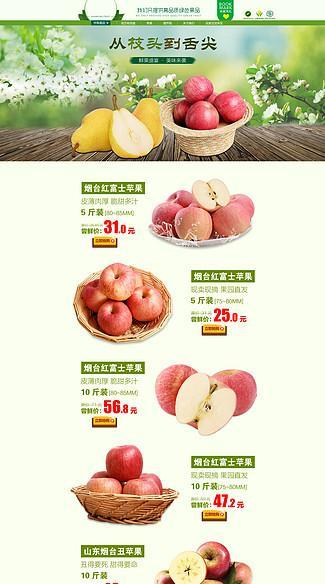apple: (175, 372, 236, 436), (154, 365, 198, 415), (213, 369, 259, 416), (103, 445, 142, 482), (100, 263, 137, 301), (212, 202, 250, 237), (175, 206, 212, 241), (170, 550, 208, 584), (128, 285, 163, 321), (96, 300, 132, 335), (196, 542, 230, 579), (193, 178, 230, 210), (184, 101, 219, 131), (214, 90, 246, 122), (151, 203, 182, 235), (80, 278, 109, 312), (183, 76, 214, 102), (86, 477, 122, 494), (122, 478, 158, 495), (165, 191, 198, 209)
